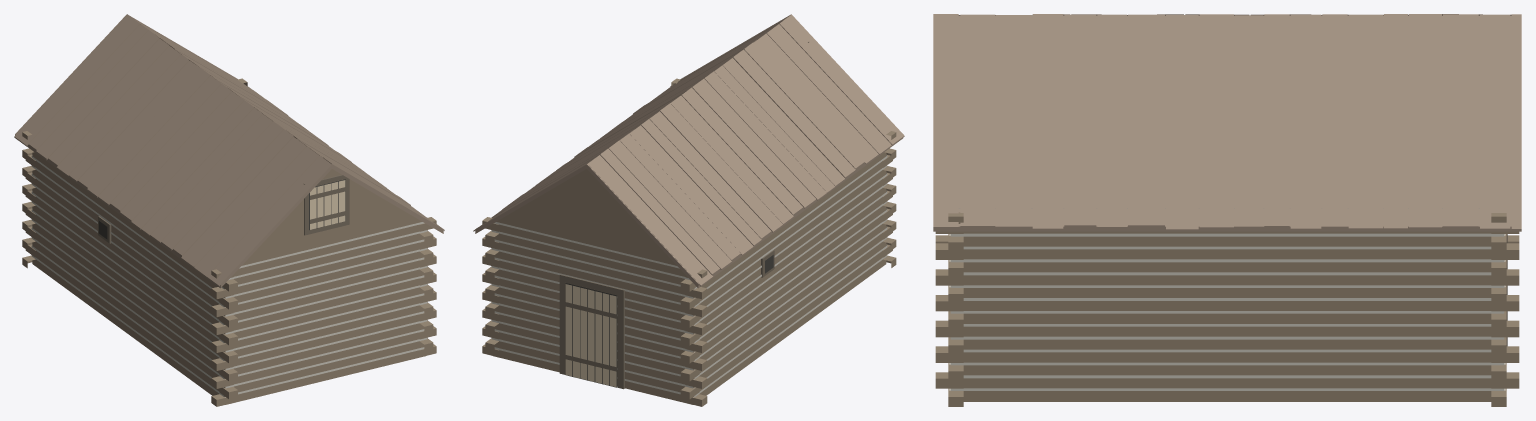
The model's file is recon_1835_blk_randolph_wells_a1_08__inferred_1835.glb.
The picture shows the model from 3 angles, left to right: view 1: azimuth 30°, elevation 25°; view 2: azimuth 150°, elevation 25°; view 3: azimuth 270°, elevation 25°; orthographic projection. The views are drawn at different scales.
Parts seen in each view (by area): view 1: recon_1835_blk_randolph_wells_a1_08__inferred_1835; view 2: recon_1835_blk_randolph_wells_a1_08__inferred_1835; view 3: recon_1835_blk_randolph_wells_a1_08__inferred_1835.
Part boxes in pixels (left/top/right/bottom): recon_1835_blk_randolph_wells_a1_08__inferred_1835: left=14, top=14, right=444, bottom=406; recon_1835_blk_randolph_wells_a1_08__inferred_1835: left=473, top=14, right=904, bottom=406; recon_1835_blk_randolph_wells_a1_08__inferred_1835: left=933, top=14, right=1521, bottom=406.
Size of the model in its own units: 5.91 by 5.5 by 9.25.
